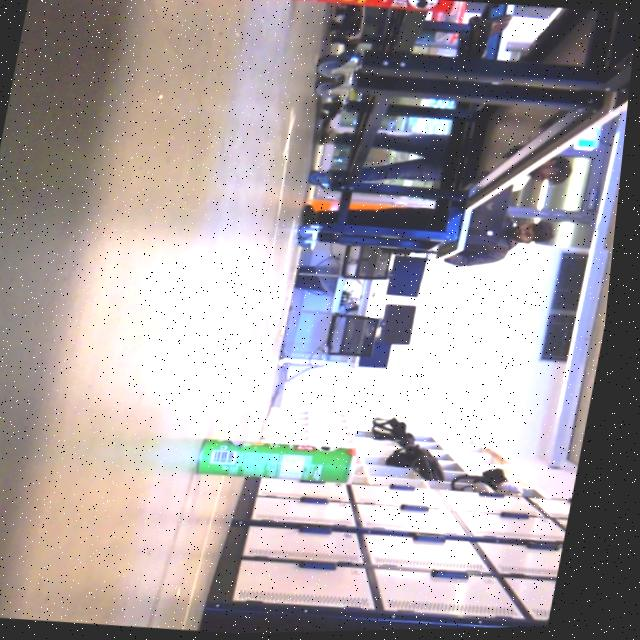greenpringles: (185, 418, 391, 507)
redpringles: (268, 0, 483, 49)
